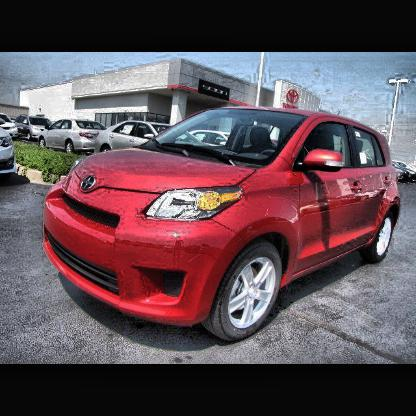Scion xD Hatchback 2012: (41, 104, 403, 348)
